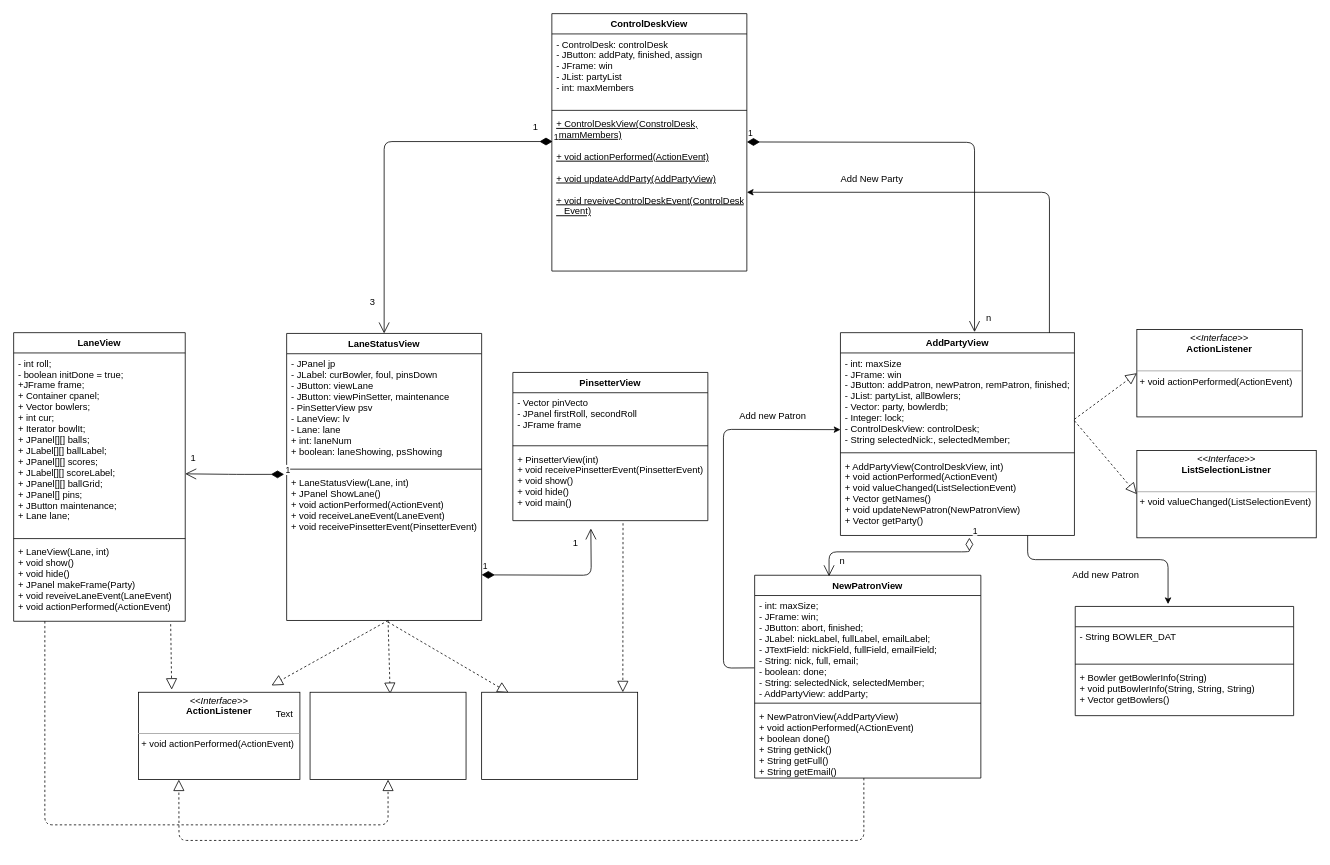
This 1330x865 diagram has some shape labels left out. The shapes that lost their labels are listed below. From the top down, each one's box as (x1, y1, x2, y2) in pixels, then its label:
(1074, 606, 1294, 716): BowlerFile
(309, 691, 466, 780): <<Interface>> LaneObserver + void receiveLaneEvent(LaneEvent)
(481, 691, 638, 780): <<Interface>> PinsetterObserver + void receivePinsetterEvent(Pinset terEvent)
